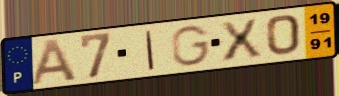0: (264, 14, 304, 57)
7: (78, 31, 114, 80)
A: (29, 37, 80, 87)
G: (170, 24, 212, 68)
I: (144, 29, 157, 71)
X: (217, 17, 265, 64)
